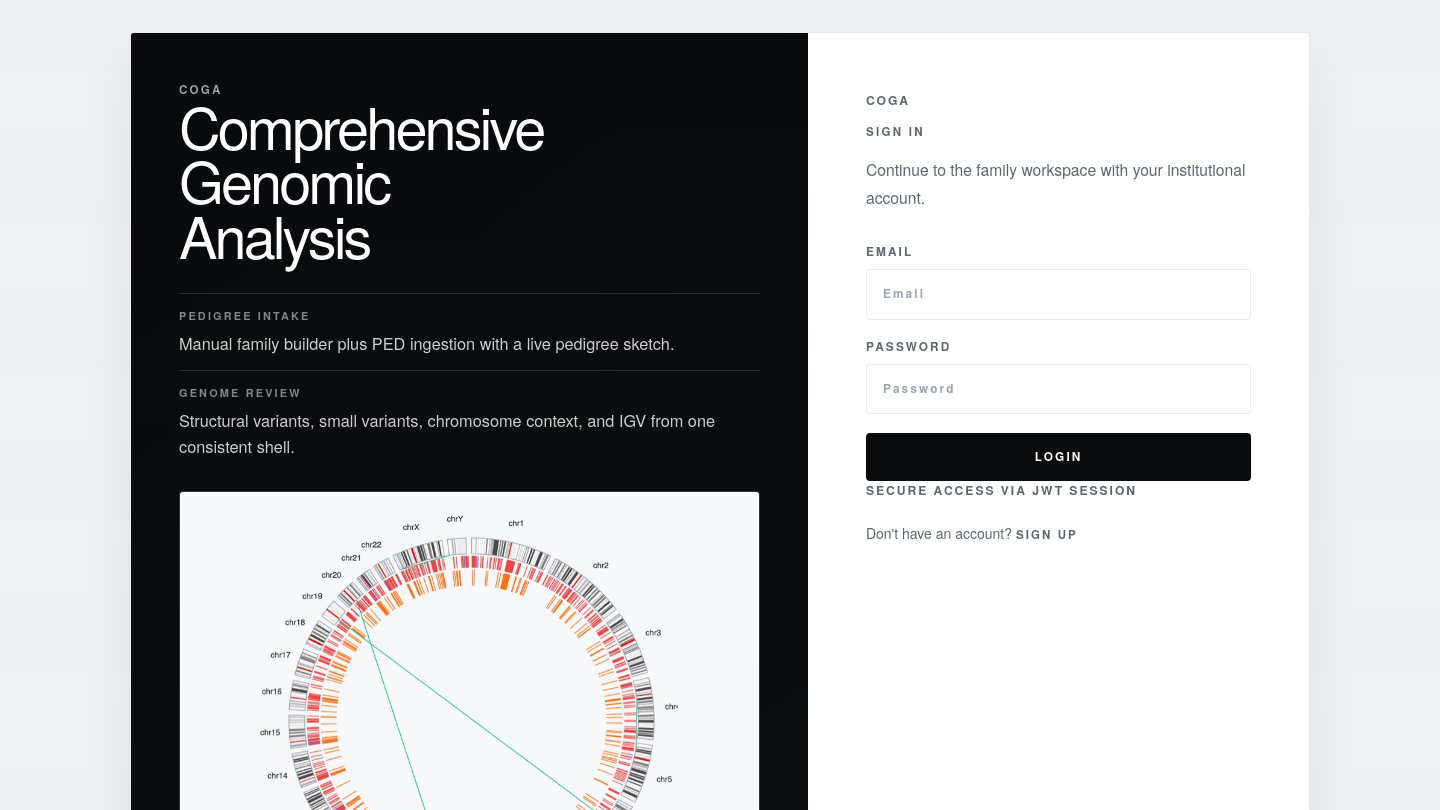
Test case: LoginPage › shows formatted validation errors from the API
Type "admin@example.com" into the field with placeholder "Email" at (1059, 294), box [866, 269, 1251, 320]
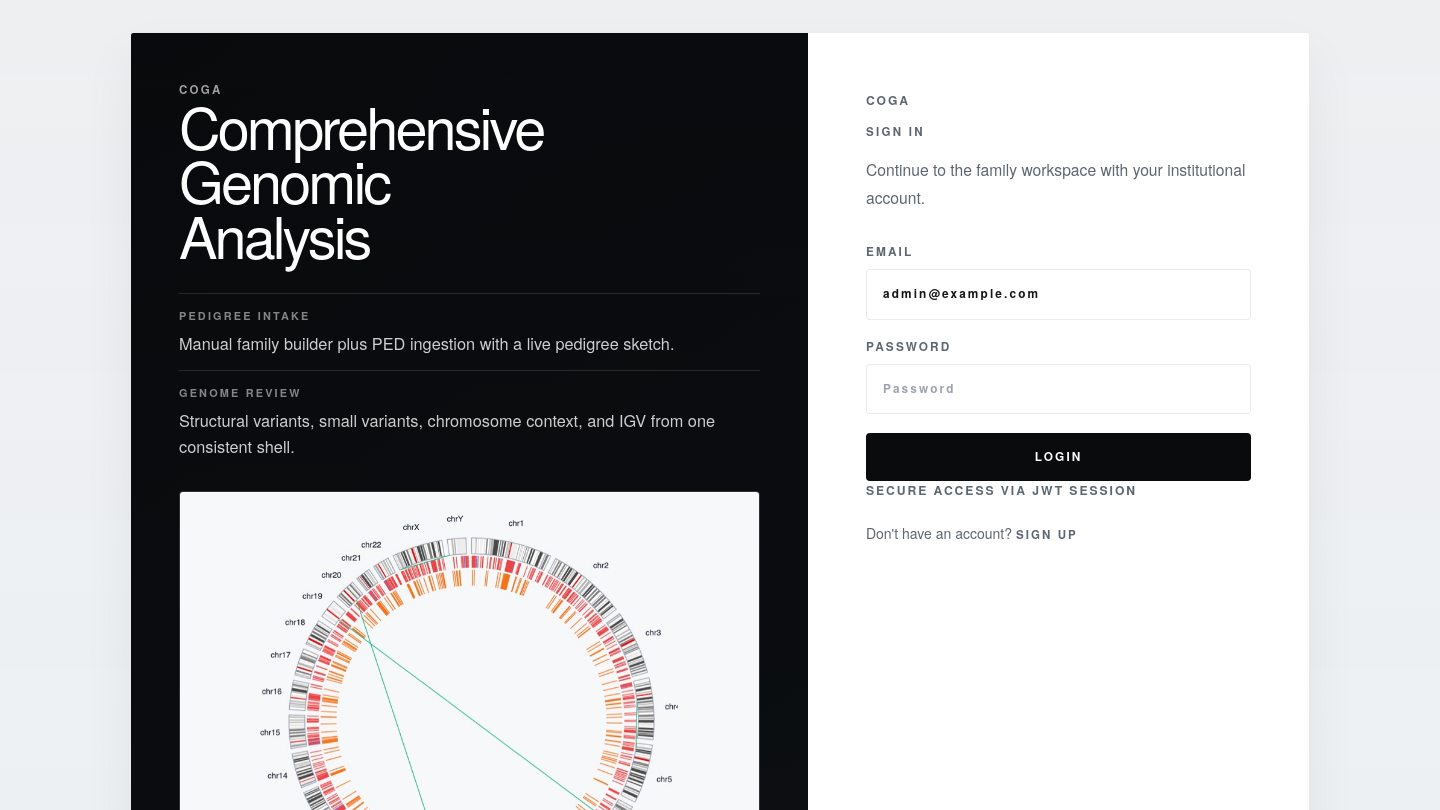
Type "short" into the password field with placeholder "Password" at (1059, 389), box [866, 364, 1251, 414]
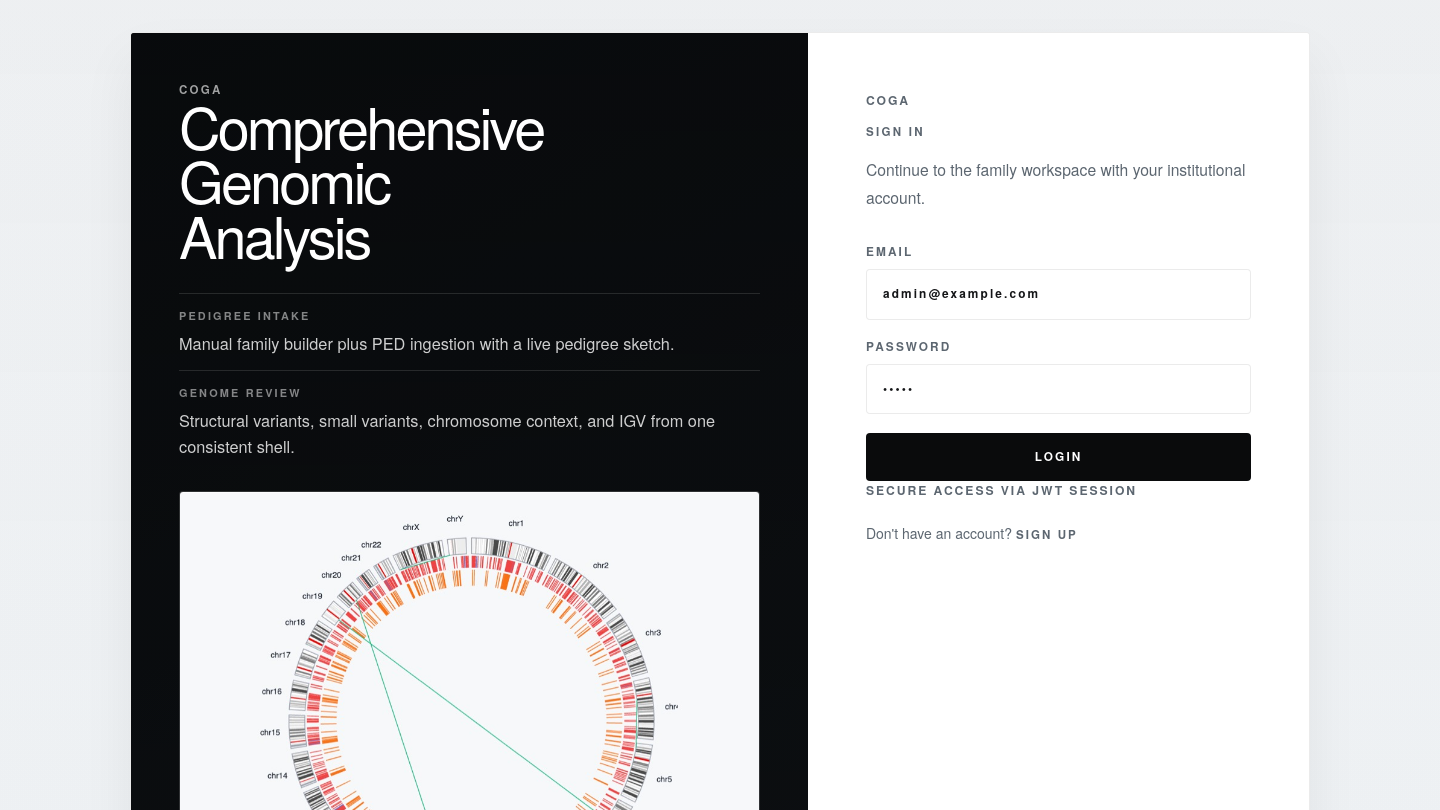
Click the button "Login" at (1059, 457), box [866, 433, 1251, 481]
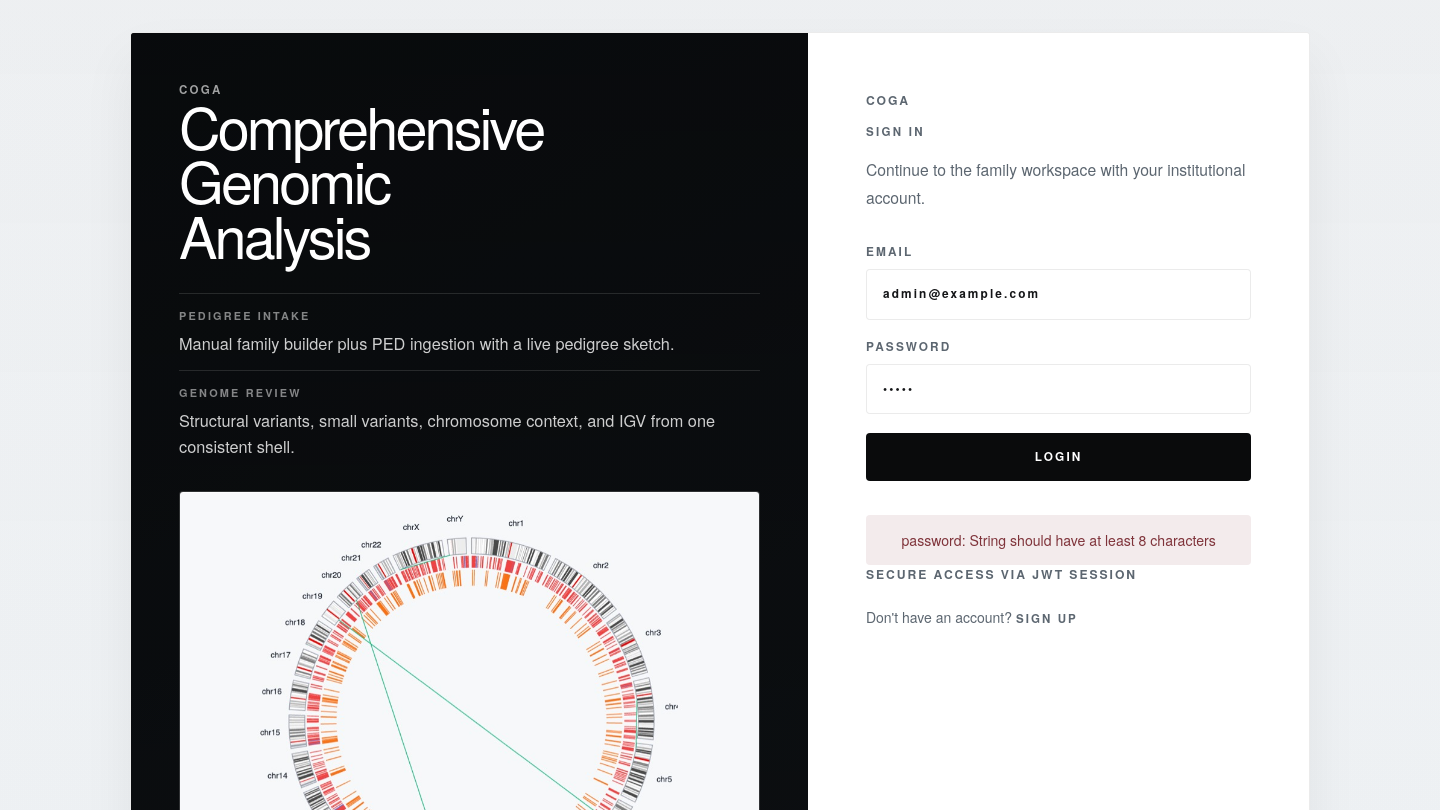
Result: the text "password: String should have at least 8 characters" is shown at [866, 515, 1251, 565]
